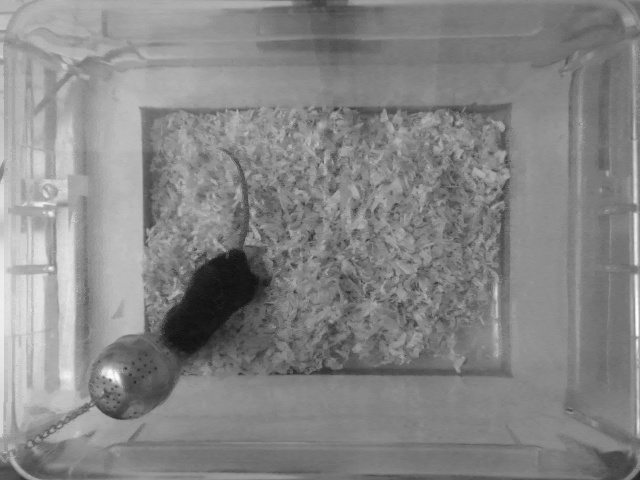mice: (163, 143, 274, 360)
